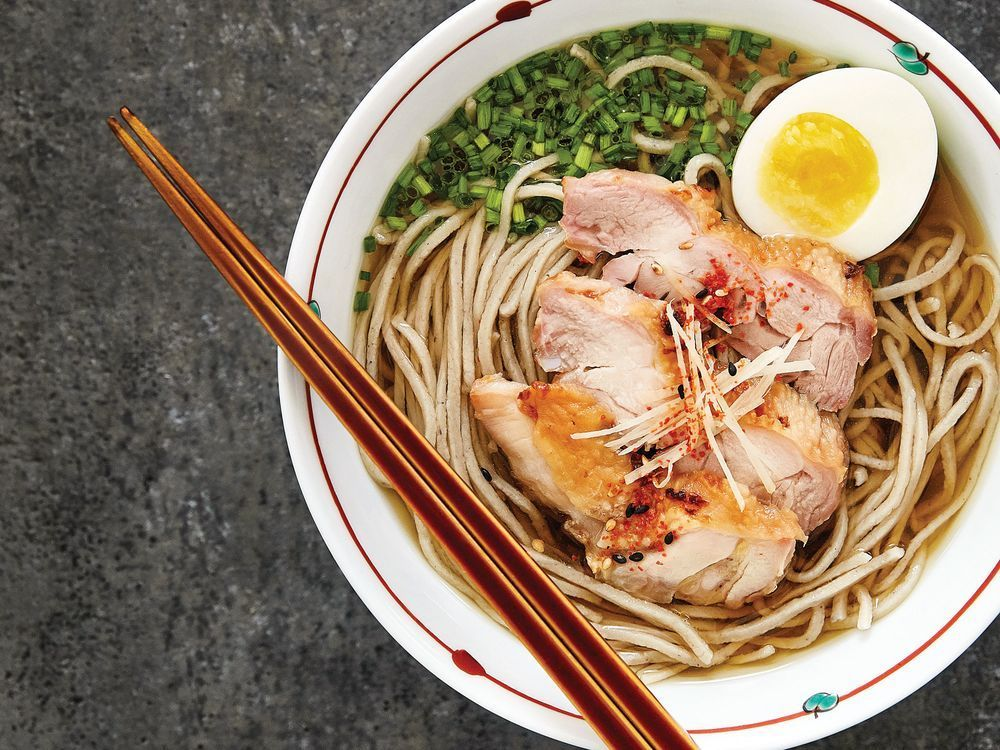Soba: (356, 34, 1000, 676)
